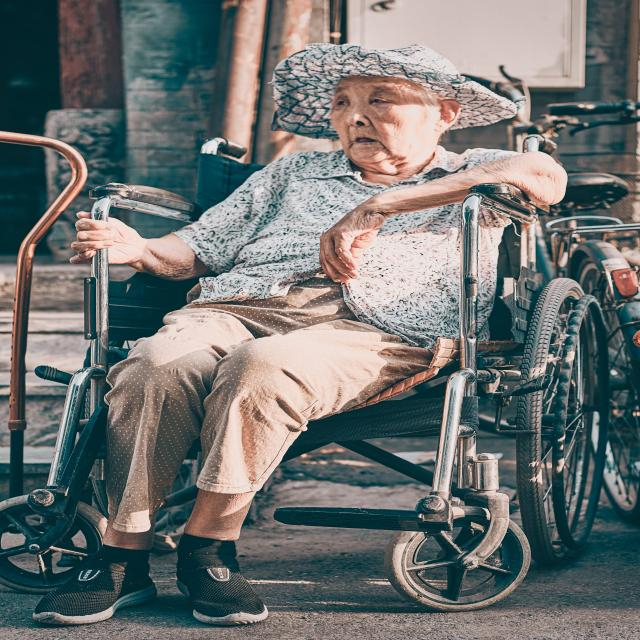wheelchairs: (6, 136, 640, 621)
